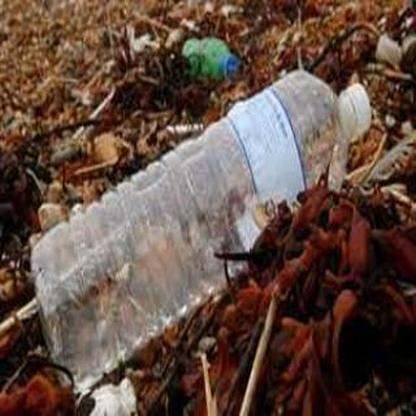plastic bottle: (28, 69, 373, 387), (183, 36, 240, 75)
